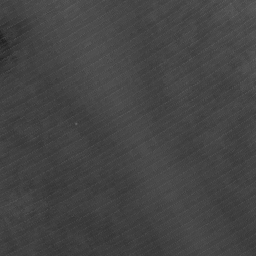Target: (72, 120, 81, 127)
